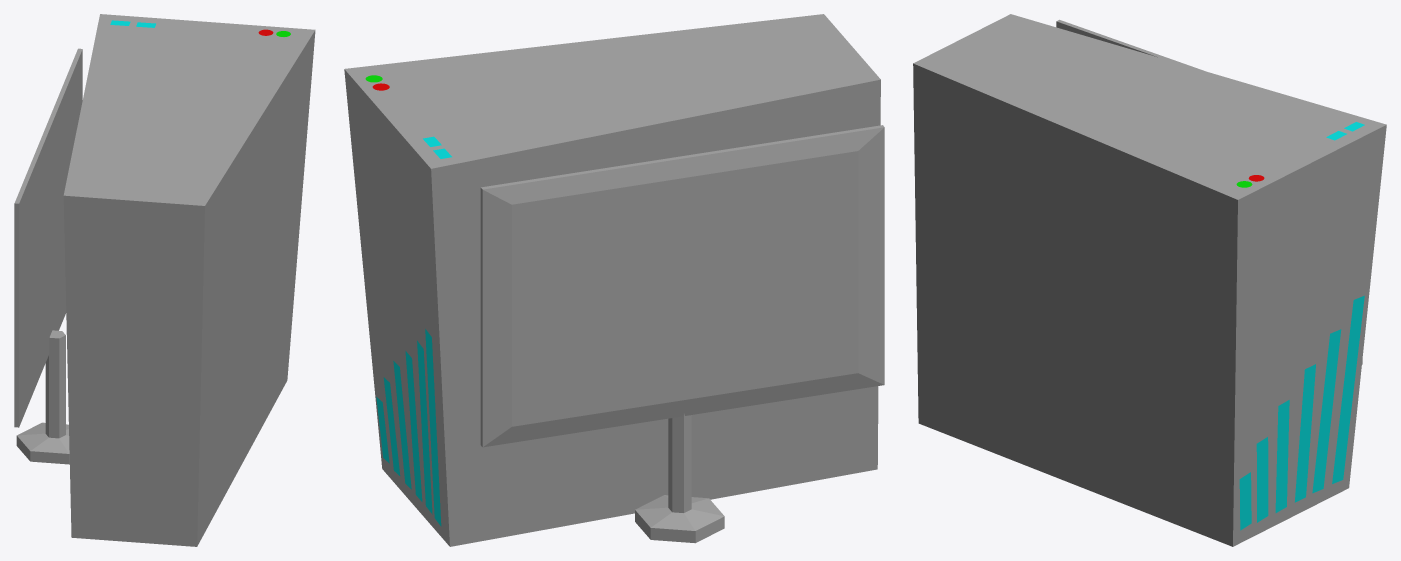
3 renders of one model, left to right at view 1: azimuth 30°, elevation 25°; view 2: azimuth 150°, elevation 25°; view 3: azimuth 270°, elevation 25°, orthographic. The views are drawn at different scales.
Visible parts, largest first — view 1: pCylinder3; view 2: pCylinder3; view 3: pCylinder3.
Boxes of the visible parts, x1,y1,x2,y2 form: pCylinder3: (14, 14, 315, 546); pCylinder3: (344, 14, 884, 546); pCylinder3: (913, 14, 1386, 546).
Bounding box in the file's own units: 260 × 223 × 261.
